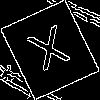X: (25, 25, 78, 81)
